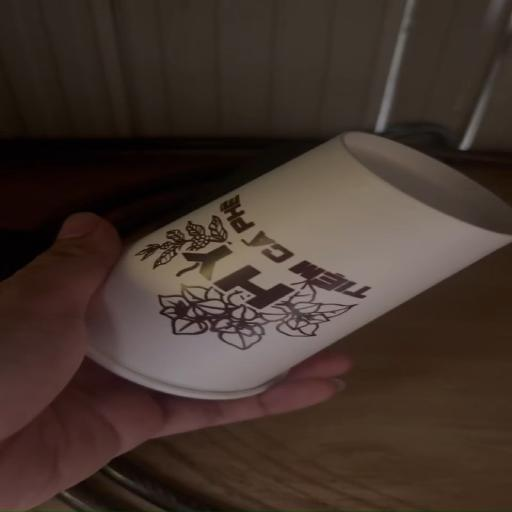ly_giay: (87, 132, 511, 399)
